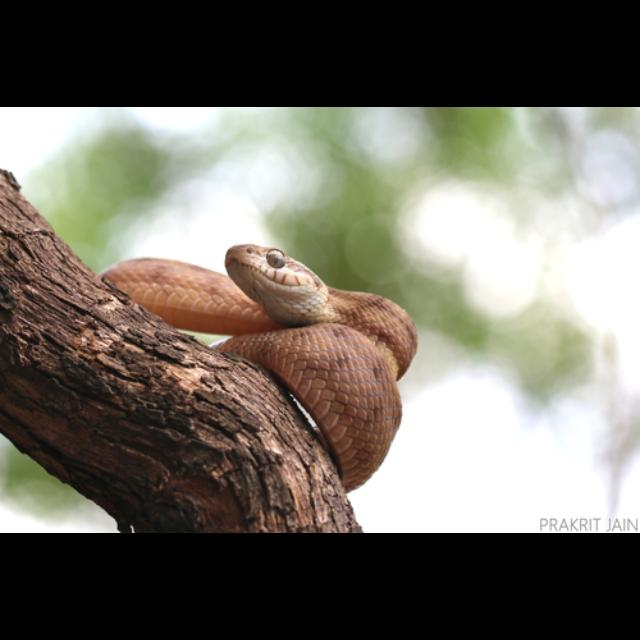snake: (98, 240, 416, 486)
